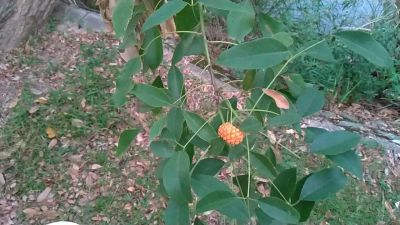eggs: (217, 117, 249, 149)
